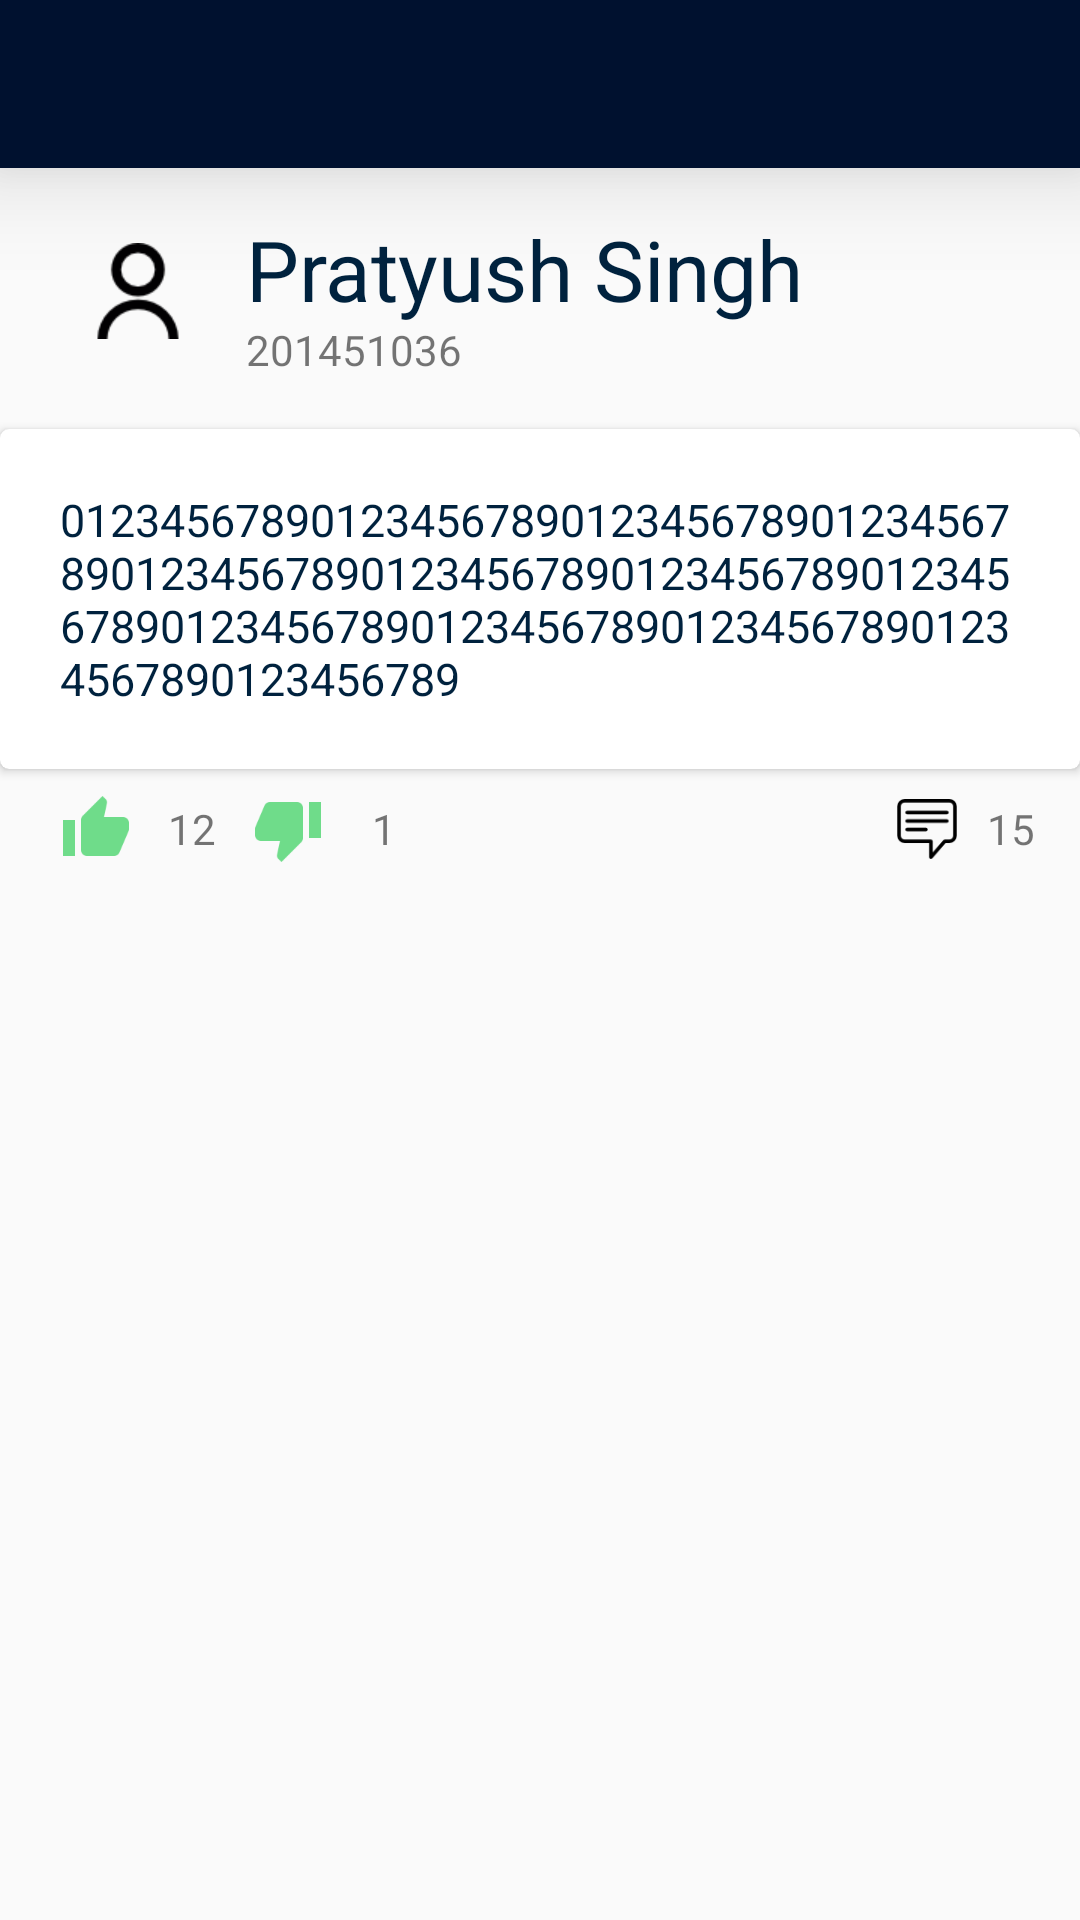

Screen size 1080×1920. Icon name, then its box in pixels as (x1, y1, x2, y2):
comment: (897, 799, 957, 859)
downvote: (255, 802, 321, 862)
upvote: (63, 796, 129, 856)
user pic: (97, 243, 179, 339)
